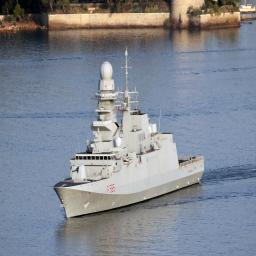Fragata: (53, 46, 207, 222)
